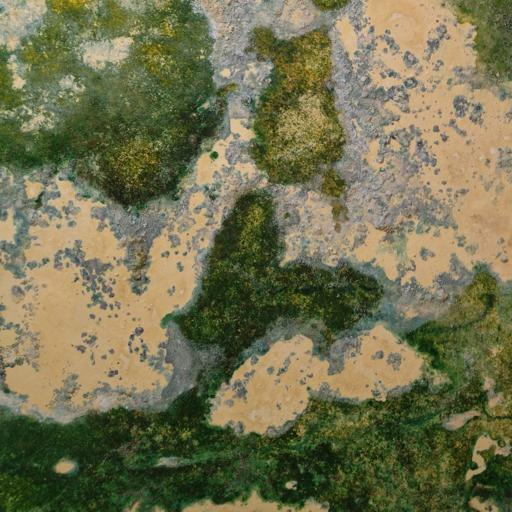algae: (12, 5, 512, 512)
